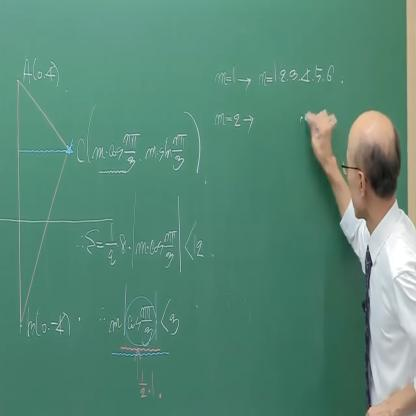streamer: (304, 105, 416, 416)
